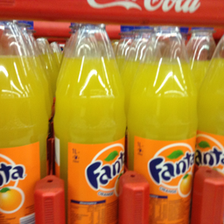soda: (55, 23, 126, 223), (128, 24, 198, 224), (1, 21, 48, 224)
